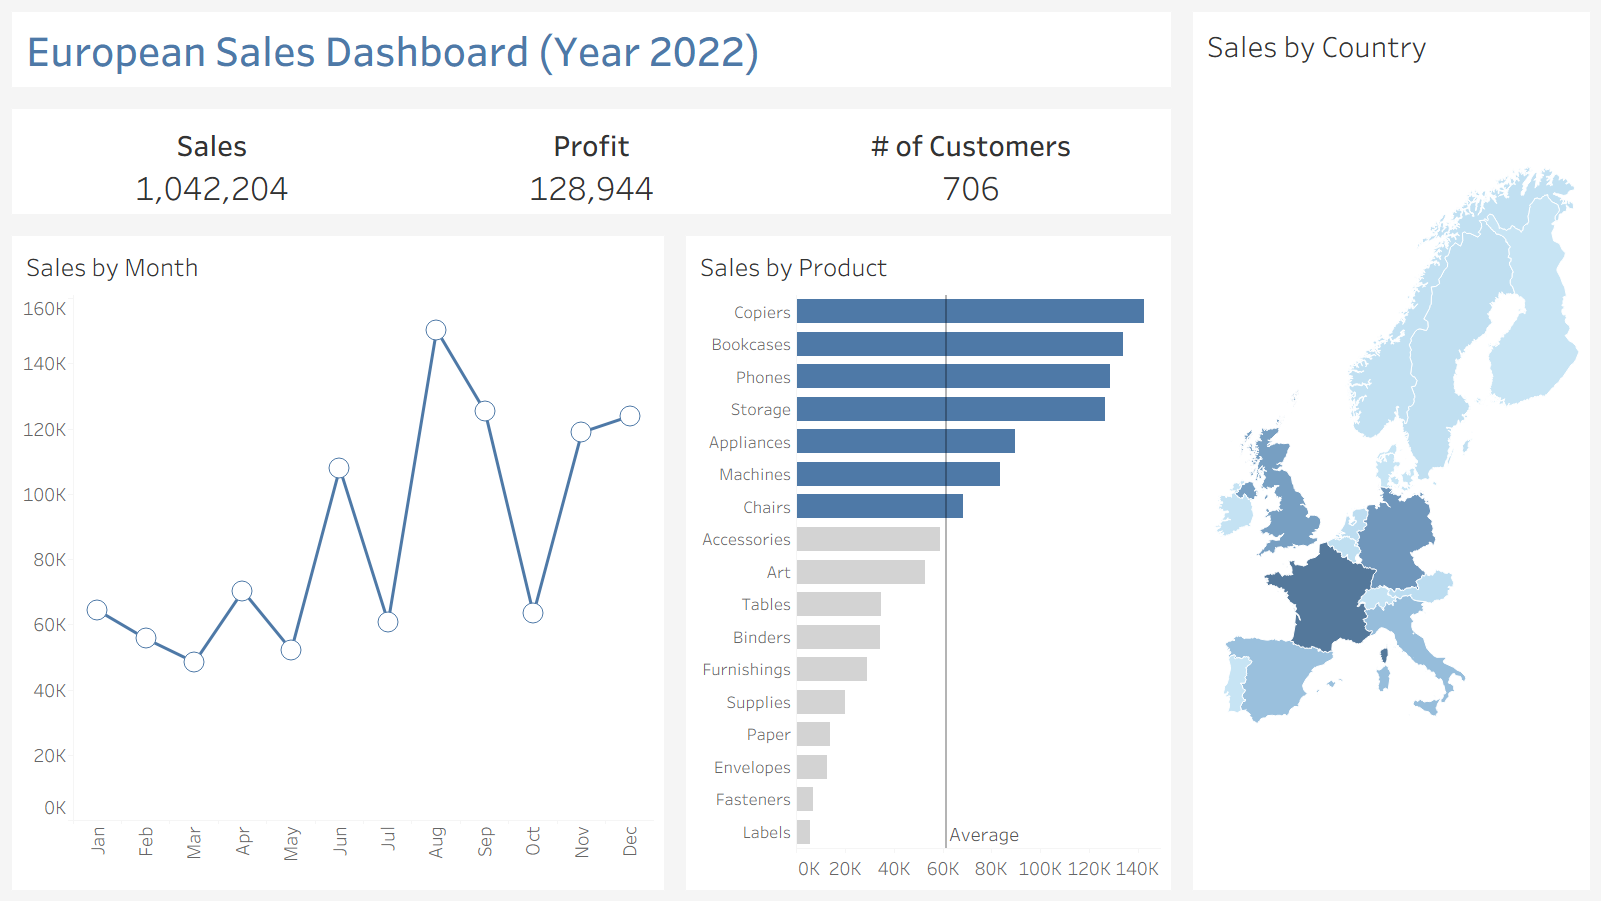

What the dashboard file says about the page in this screenshot:
{"tool":"tableau","page":{"name":"Dashboard 1","canvas":[1600,900],"ordinal":0},"visuals":[{"type":"text","box":[0,0,1181,97]},{"type":"worksheet","title":"Sales by Country","mark":"Automatic","box":[1181,0,419,900]},{"type":"legend","title":"Sales by Country","param":"[federated.0iooqsl0s16nlr117umnh0294ccn].[sum:Sales:qk]","box":[1432,8,160,81]},{"type":"legend","title":"Sales by Product","param":"[federated.0iooqsl0s16nlr117umnh0294ccn].[usr:Calculation_1062700389011456:nk:1]","box":[1432,89,160,84]},{"type":"worksheet","title":"KPIs","mark":"Automatic","box":[0,97,1181,127]},{"type":"worksheet","title":"Sales by Month","mark":"Automatic","rows":["Sales","Sales"],"cols":["Order Date"],"box":[0,224,674,675.9]},{"type":"worksheet","title":"Sales by Product","mark":"Automatic","rows":["Sub-Category"],"cols":["Sales"],"box":[674,224,507,675.9]}]}

Visuals, with their boxes in screenshot pixels (x1, y1, x2, y2), scaled from the page's 1600x900 canvas onto the 1601x901 screenshot:
text: {"x1": 0, "y1": 0, "x2": 1182, "y2": 97}
"Sales by Country" worksheet: {"x1": 1182, "y1": 0, "x2": 1600, "y2": 900}
"Sales by Country" legend: {"x1": 1433, "y1": 8, "x2": 1593, "y2": 89}
"Sales by Product" legend: {"x1": 1433, "y1": 89, "x2": 1593, "y2": 173}
"KPIs" worksheet: {"x1": 0, "y1": 97, "x2": 1182, "y2": 224}
"Sales by Month" worksheet: {"x1": 0, "y1": 224, "x2": 674, "y2": 900}
"Sales by Product" worksheet: {"x1": 674, "y1": 224, "x2": 1182, "y2": 900}
